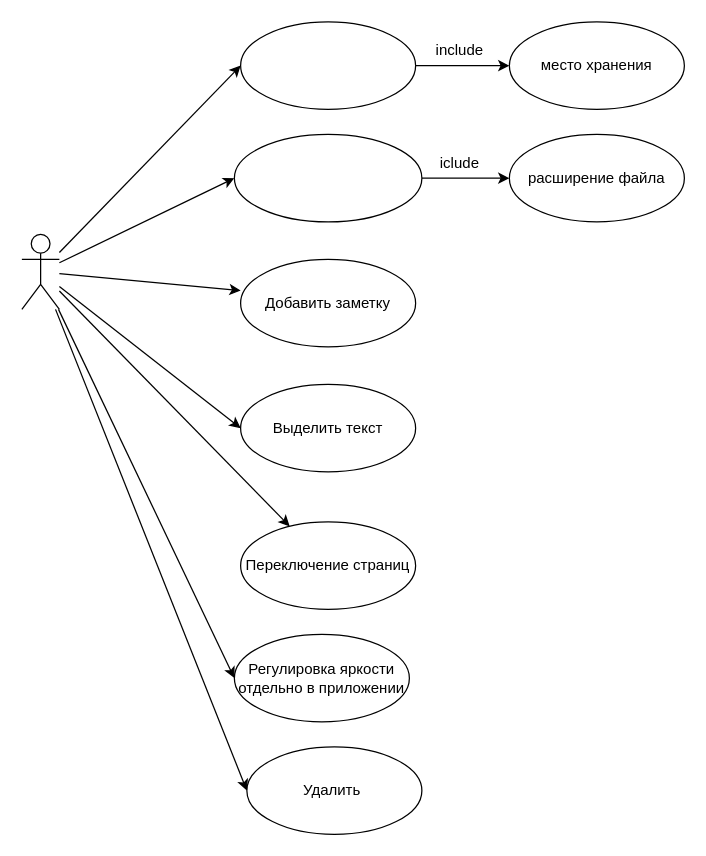
Some shapes in this 706 by 856 pixel diagram are drawn without their labels. Each missing label, with the box of its shape:
Actor: (21, 233, 59, 309)
Добавить: (239, 21, 416, 109)
Открыть: (233, 133, 422, 222)
